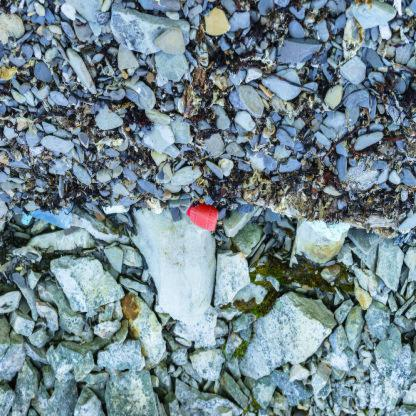Bottle: (186, 206, 191, 216)
Bottle cap: (186, 202, 218, 231)
Styrofoam piece: (144, 197, 163, 215), (102, 206, 130, 215)
